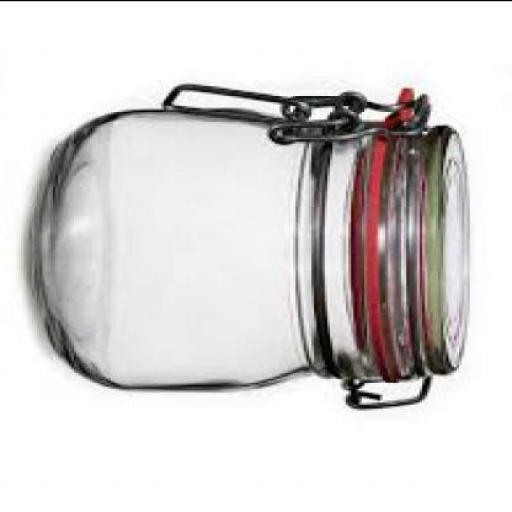glass: (39, 103, 468, 386)
